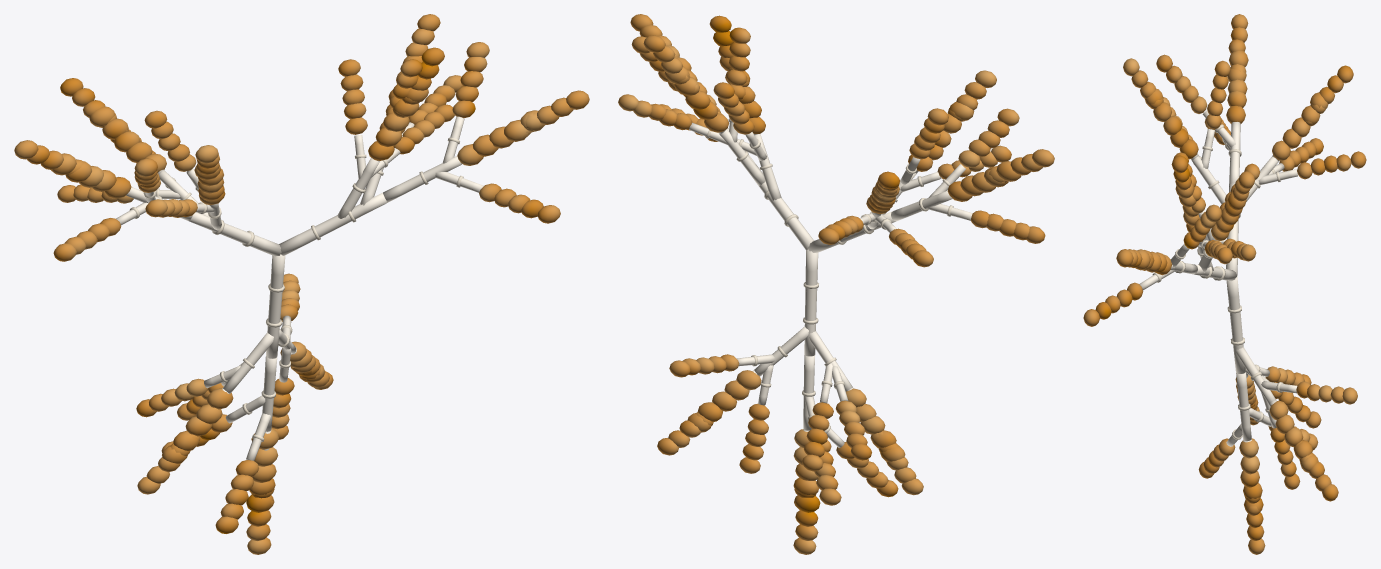
Rendered from neurospora-intermedia.glb.
3 renders of one model, left to right at view 1: azimuth 30°, elevation 25°; view 2: azimuth 150°, elevation 25°; view 3: azimuth 270°, elevation 25°, orthographic. The views are drawn at different scales.
Visible parts, largest first — view 1: macroconidia, hyphal_filaments, septa_cross_walls; view 2: macroconidia, hyphal_filaments, septa_cross_walls; view 3: macroconidia, hyphal_filaments, septa_cross_walls.
Part boxes in pixels (x1=…): macroconidia: x1=14, y1=14, x2=589, y2=554; hyphal_filaments: x1=116, y1=116, x2=483, y2=460; septa_cross_walls: x1=129, y1=136, x2=463, y2=441; macroconidia: x1=618, y1=14, x2=1054, y2=554; hyphal_filaments: x1=689, y1=122, x2=972, y2=447; septa_cross_walls: x1=706, y1=118, x2=953, y2=433; macroconidia: x1=1083, y1=14, x2=1366, y2=554; hyphal_filaments: x1=1139, y1=110, x2=1297, y2=446; septa_cross_walls: x1=1152, y1=124, x2=1283, y2=439.
Bounding box in the file's own units: 4.93 × 4.66 × 2.63.
